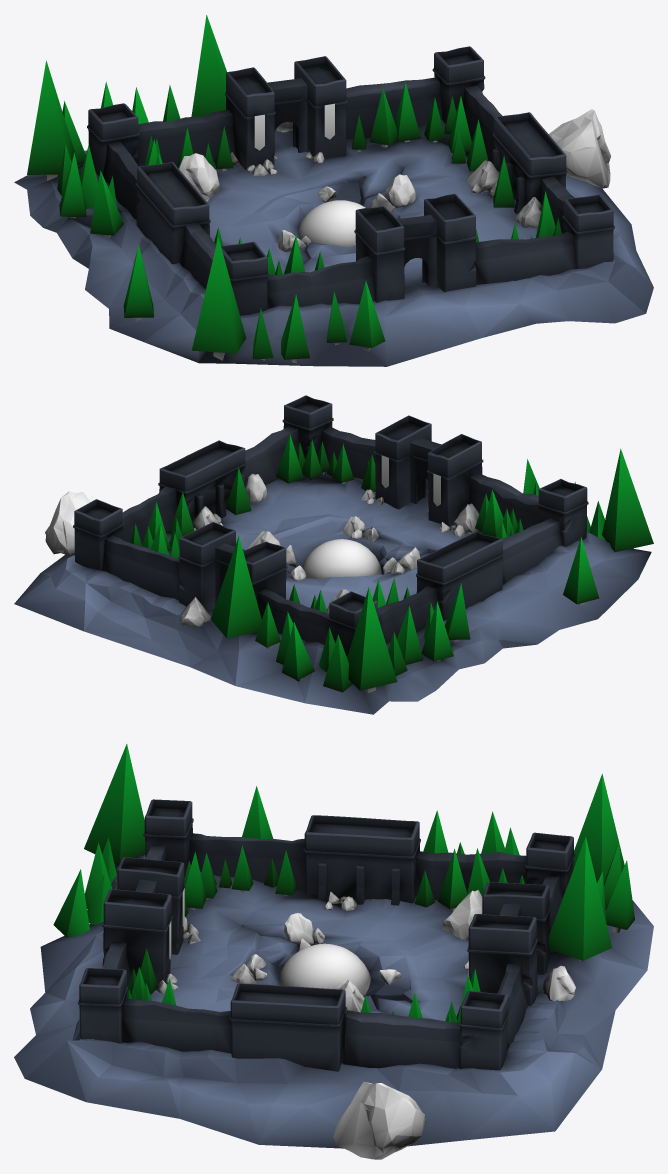
File: AllSky_DemoEnvironment_Center.fbx
3 renders of one model, top to bottom at view 1: azimuth 30°, elevation 25°; view 2: azimuth 150°, elevation 25°; view 3: azimuth 270°, elevation 25°, orthographic. The views are drawn at different scales.
Visible parts, largest first — view 1: AllSky_DemoEnvironment_Center; view 2: AllSky_DemoEnvironment_Center; view 3: AllSky_DemoEnvironment_Center.
Part boxes in pixels (<box>): AllSky_DemoEnvironment_Center: <box>14,15,653,366</box>; AllSky_DemoEnvironment_Center: <box>14,395,653,714</box>; AllSky_DemoEnvironment_Center: <box>14,744,653,1159</box>.
Bounding box in the file's own units: 217 × 62.54 × 204.
